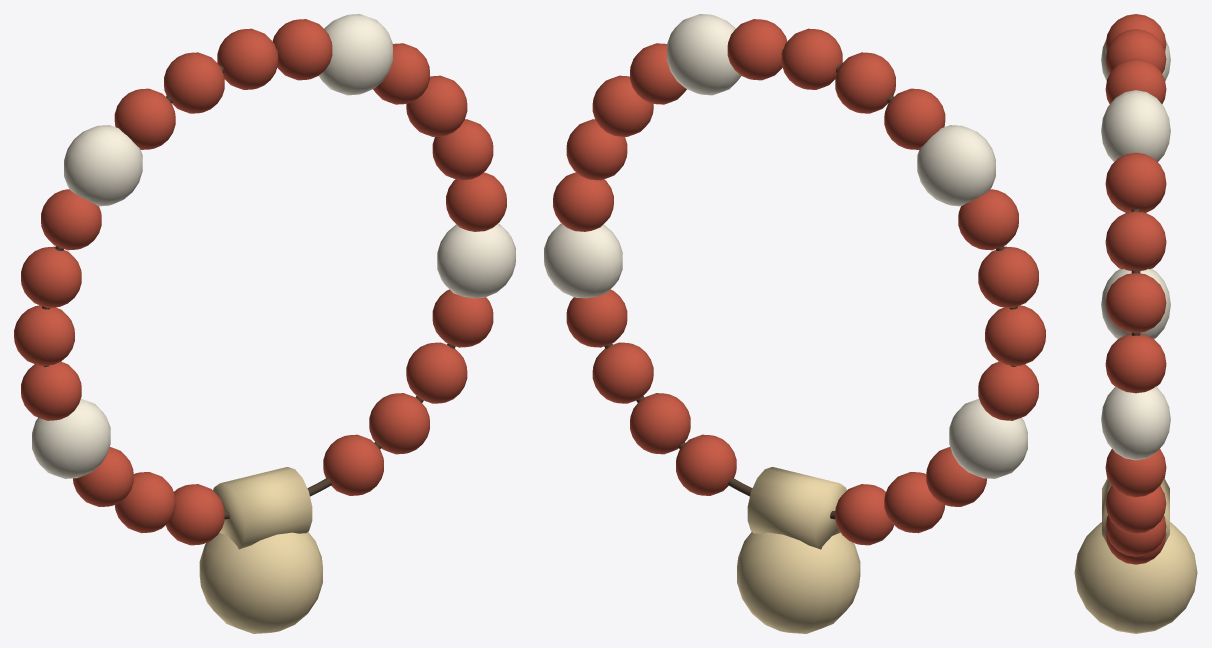
Rendered from beaded-bracelet.glb.
3 renders of one model, left to right at view 1: azimuth 30°, elevation 25°; view 2: azimuth 150°, elevation 25°; view 3: azimuth 270°, elevation 25°, orthographic.
Parts seen in each view (by area): view 1: CharmBody, Clasp, Accent_009, Accent_024, Accent_014, Accent_004, Bead_022, Bead_021, Bead_011, Bead_007, Bead_020, Bead_012 (+13 smaller); view 2: CharmBody, Clasp, Accent_009, Accent_024, Accent_014, Accent_004, Bead_022, Bead_021, Bead_011, Bead_007, Bead_020, Bead_012 (+13 smaller); view 3: CharmBody, Accent_024, Accent_004, Bead_002, Bead_001, Bead_000, Bead_003, Bead_023, Bead_022, Bead_005, Bead_006, Bead_021 (+5 smaller).
Boxes of the visible parts, box(x1,y1,x2,y2) form: CharmBody: box(199, 532, 322, 633); Clasp: box(213, 467, 312, 549); Accent_009: box(64, 125, 142, 206); Accent_024: box(437, 223, 515, 298); Accent_014: box(32, 399, 110, 478); Accent_004: box(319, 14, 392, 95); Bead_022: box(406, 342, 467, 403); Bead_021: box(369, 393, 429, 454); Bead_011: box(21, 246, 81, 307); Bead_007: box(164, 52, 224, 113); Bead_020: box(323, 434, 383, 495); Bead_012: box(14, 305, 74, 365); CharmBody: box(737, 532, 860, 633); Clasp: box(747, 467, 846, 549); Accent_009: box(917, 125, 995, 206); Accent_024: box(544, 223, 622, 298); Accent_014: box(949, 399, 1027, 478); Accent_004: box(667, 14, 740, 95); Bead_022: box(592, 342, 653, 403); Bead_021: box(630, 393, 690, 454); Bead_011: box(978, 246, 1038, 307); Bead_007: box(835, 52, 895, 113); Bead_020: box(676, 434, 736, 495); Bead_012: box(985, 305, 1045, 365); CharmBody: box(1074, 522, 1197, 633); Accent_024: box(1101, 386, 1170, 460); Accent_004: box(1101, 90, 1170, 161); Bead_002: box(1105, 211, 1166, 270); Bead_001: box(1105, 273, 1166, 332); Bead_000: box(1105, 334, 1166, 393); Bead_003: box(1105, 152, 1166, 212); Bead_023: box(1105, 449, 1166, 497); Bead_022: box(1105, 485, 1166, 533); Bead_005: box(1105, 58, 1166, 103); Bead_006: box(1105, 29, 1166, 73); Bead_021: box(1105, 515, 1166, 556).
Size of the model in its own units: 0.0775 by 0.09 by 0.017.
